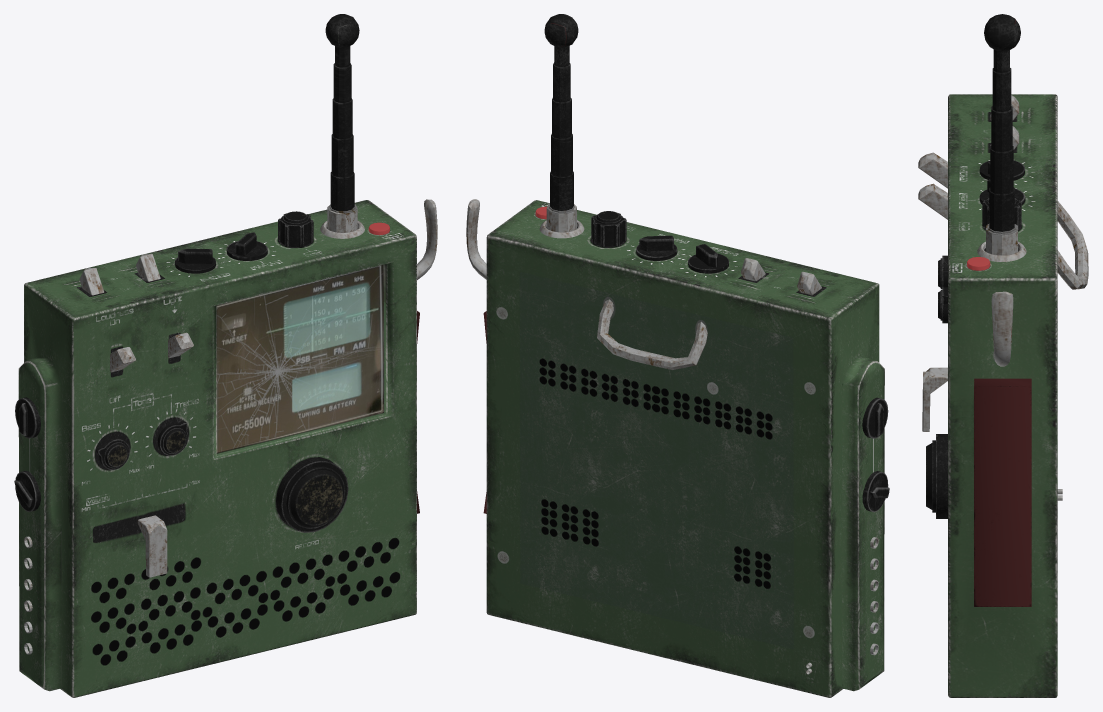
The model's file is post_apocalyptic_radio.glb.
3 views of the same model, side by side, from view 1: azimuth 30°, elevation 25°; view 2: azimuth 150°, elevation 25°; view 3: azimuth 270°, elevation 25° (orthographic). The views are drawn at different scales.
Visible parts, largest first — view 1: Base_low, Botones_low, Extra_low, Switches_low; view 2: Base_low, Extra_low, Botones_low, Switches_low; view 3: Base_low, Extra_low, Botones_low, Switches_low.
Part boxes in pixels (x1,y1,x2,y2): Base_low: (18, 200, 419, 697); Botones_low: (14, 211, 389, 532); Extra_low: (24, 14, 437, 654); Switches_low: (79, 254, 193, 372); Base_low: (483, 200, 884, 697); Extra_low: (466, 14, 878, 674); Botones_low: (535, 206, 889, 512); Switches_low: (741, 258, 821, 294); Base_low: (948, 94, 1057, 697); Extra_low: (922, 14, 1088, 500); Botones_low: (926, 160, 1025, 518); Switches_low: (918, 95, 1019, 219).
Size of the model in its own units: 0.0851 by 0.1166 by 0.0274.
1 material, 1 textured.
